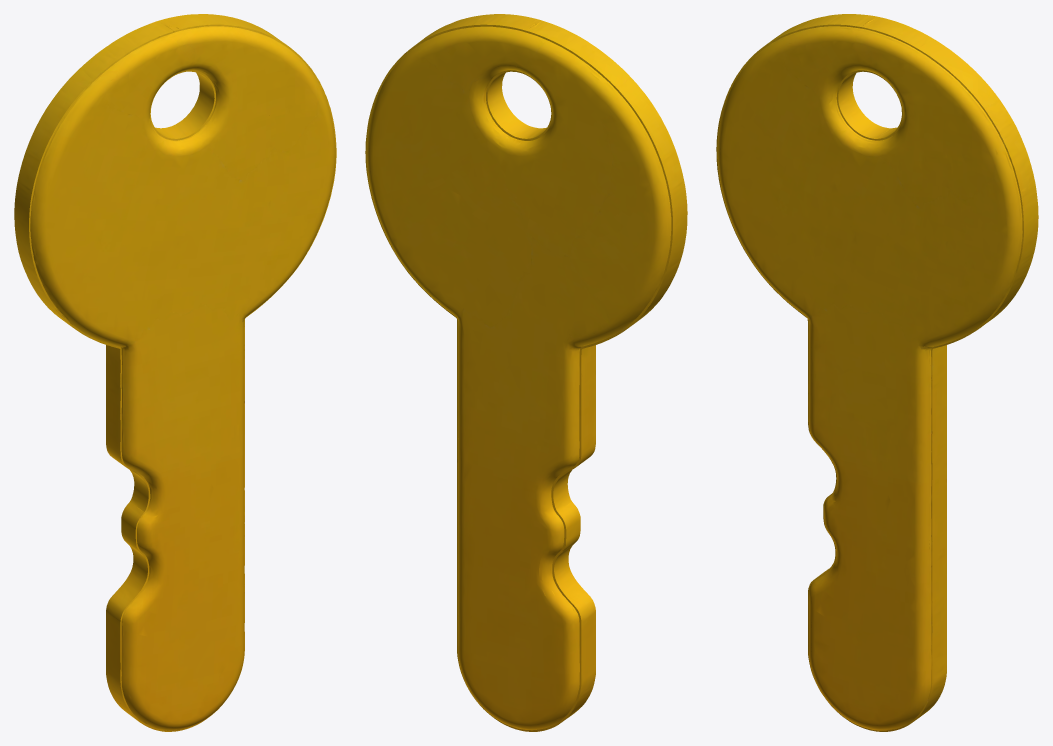
Rendered from key.glb.
3 views of the same model, side by side, from view 1: azimuth 30°, elevation 25°; view 2: azimuth 150°, elevation 25°; view 3: azimuth 330°, elevation 25° (orthographic).
Parts seen in each view (by area): view 1: model; view 2: model; view 3: model.
Part boxes in pixels (x1,y1,x2,y2): model: (14, 14, 336, 731); model: (365, 14, 687, 731); model: (716, 14, 1038, 731).
Bounding box in the file's own units: 0.4592 × 1 × 0.0654.
Materials: 1 (1 with a texture image).
